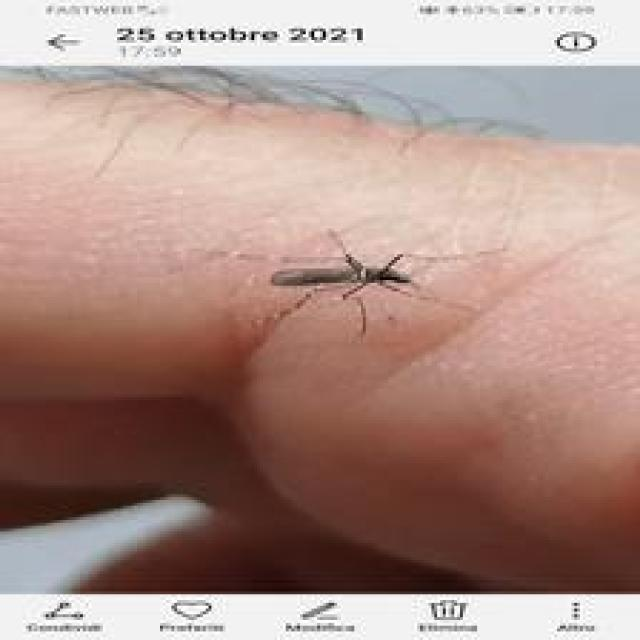Aedes albopictus: (269, 229, 417, 337)
